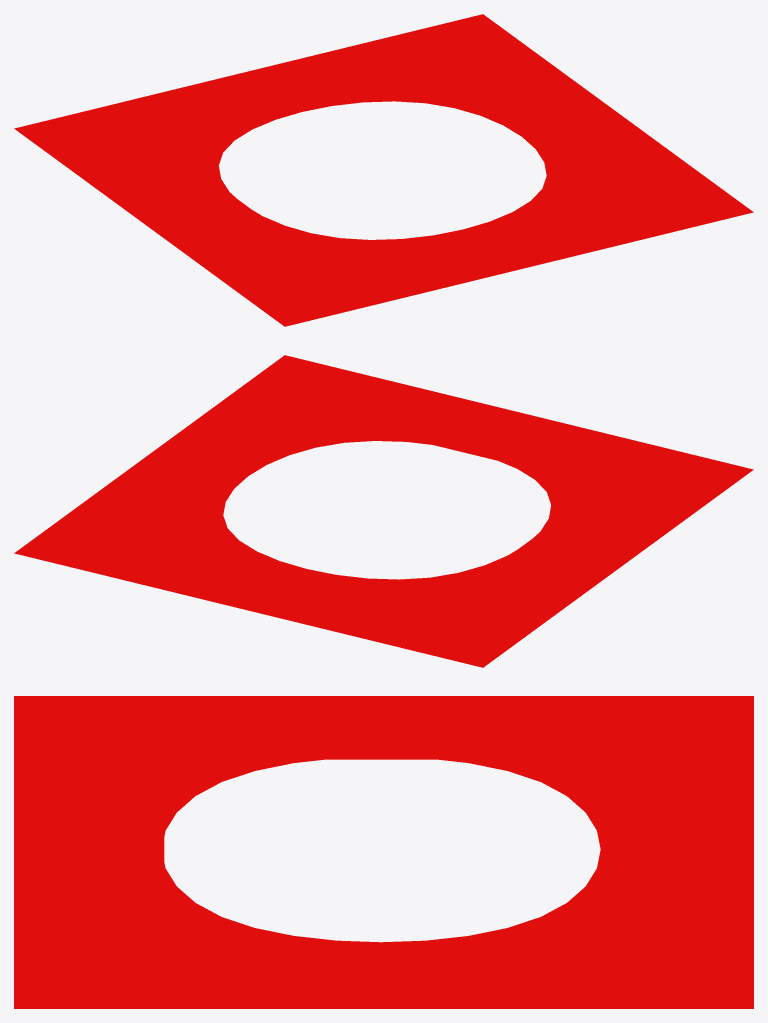
File: redsphere.fbx
The picture shows the model from 3 angles, top to bottom: view 1: azimuth 30°, elevation 25°; view 2: azimuth 150°, elevation 25°; view 3: azimuth 270°, elevation 25°; orthographic projection. The views are drawn at different scales.
Visible parts, largest first — view 1: Plane, Plane.001; view 2: Plane, Plane.001; view 3: Plane, Plane.001.
Part boxes in pixels (bbox=[...]): Plane: bbox=[129, 63, 635, 277]; Plane.001: bbox=[14, 14, 753, 326]; Plane: bbox=[134, 403, 640, 617]; Plane.001: bbox=[14, 355, 753, 667]; Plane: bbox=[42, 706, 720, 992]; Plane.001: bbox=[14, 696, 753, 1008].
Bounding box in the file's own units: 400 × 0.8784 × 400.
